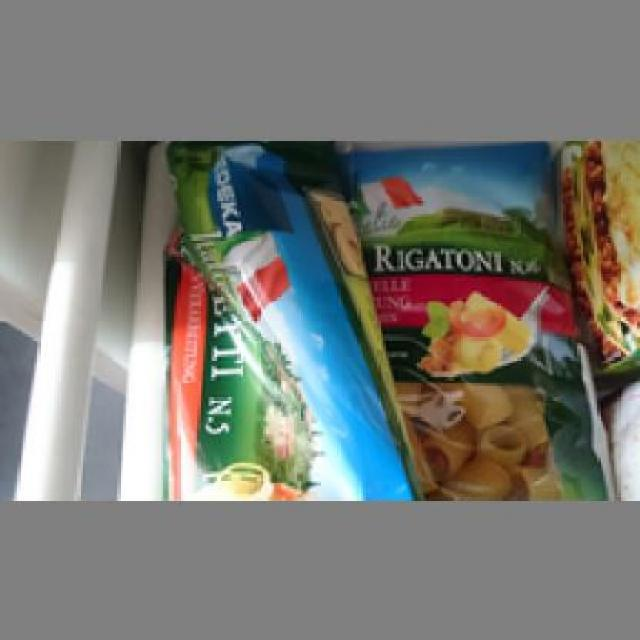Pasta: (343, 140, 611, 494), (154, 140, 414, 494)
